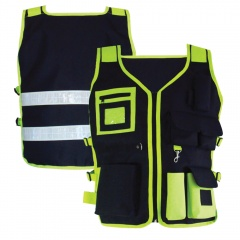safety vest: (90, 46, 222, 227), (15, 6, 136, 168)
